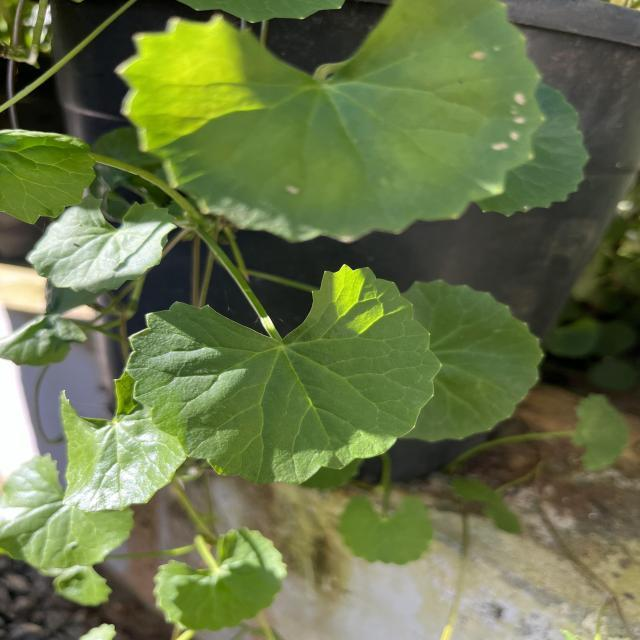Centella asiatica: (122, 261, 446, 487), (56, 370, 190, 516)
